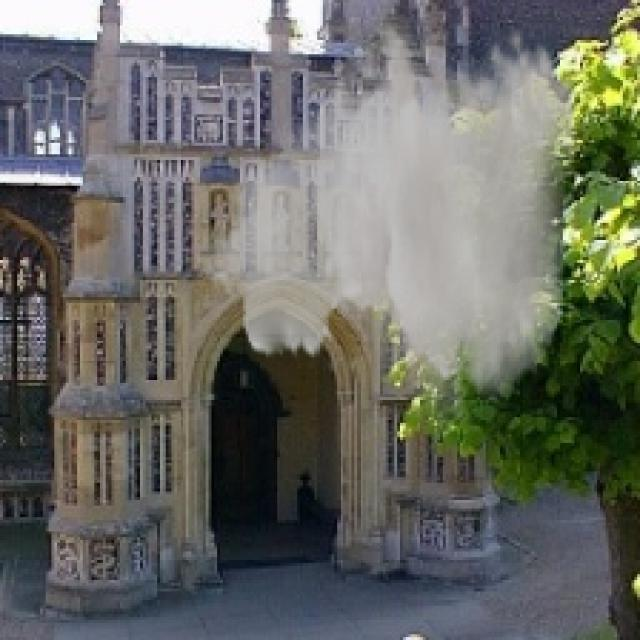Smoke: (194, 22, 577, 448)
